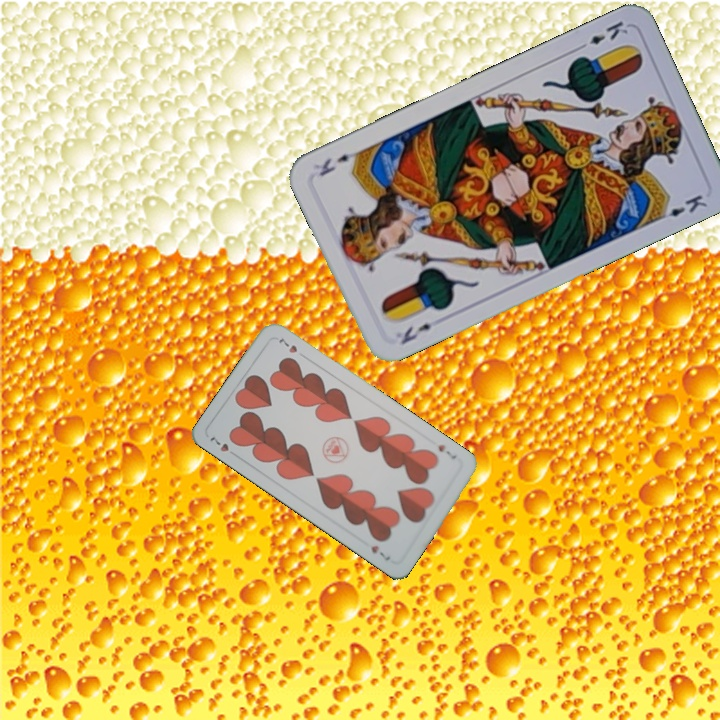EK: (573, 16, 631, 53), (396, 319, 434, 348)
H7: (205, 432, 241, 459), (434, 441, 459, 462)
